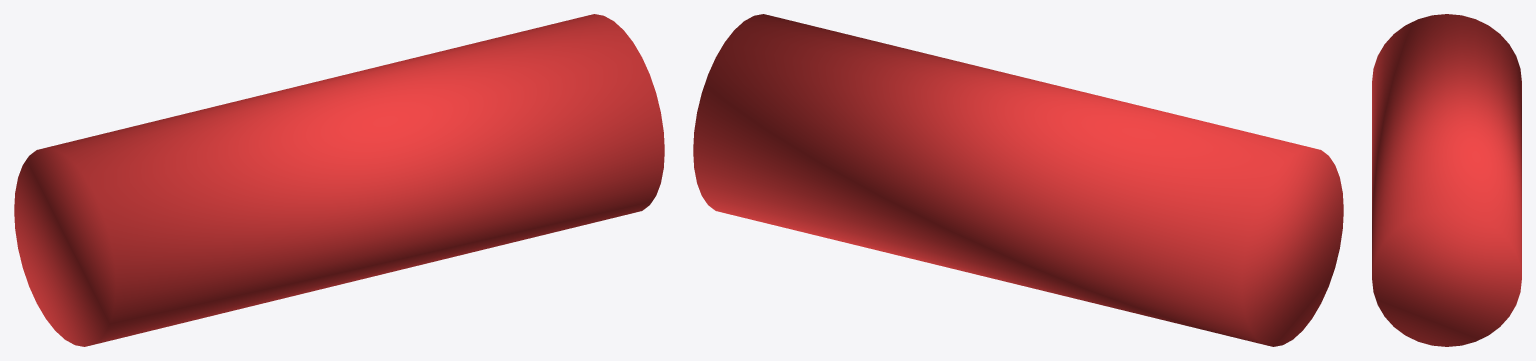
Rendered from HATCH_Cockpit_Extinguisher_Bottle.glb.
3 renders of one model, left to right at view 1: azimuth 30°, elevation 25°; view 2: azimuth 150°, elevation 25°; view 3: azimuth 270°, elevation 25°, orthographic. The views are drawn at different scales.
Visible parts, largest first — view 1: HATCH_Cockpit_Extinguisher_Bottle; view 2: HATCH_Cockpit_Extinguisher_Bottle; view 3: HATCH_Cockpit_Extinguisher_Bottle.
Boxes of the visible parts, <box> form: HATCH_Cockpit_Extinguisher_Bottle: <box>14,14,664,346</box>; HATCH_Cockpit_Extinguisher_Bottle: <box>693,14,1343,346</box>; HATCH_Cockpit_Extinguisher_Bottle: <box>1372,14,1521,346</box>.
Size of the model in its own units: 0.28 by 0.09 by 0.09.
